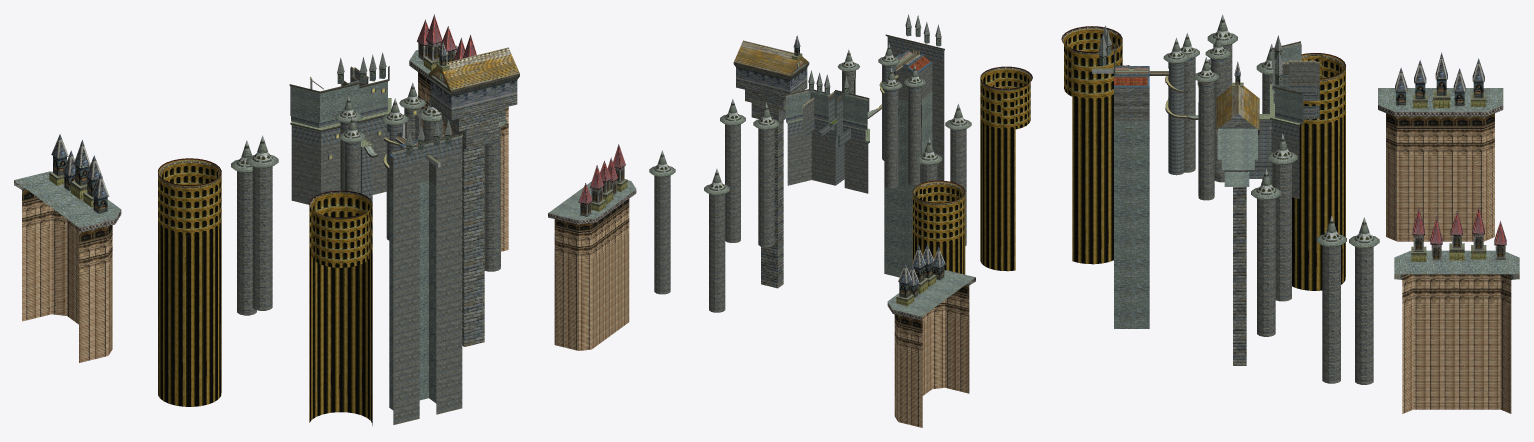
File: Hang Castle 1.obj
The picture shows the model from 3 angles, left to right: view 1: azimuth 30°, elevation 25°; view 2: azimuth 150°, elevation 25°; view 3: azimuth 270°, elevation 25°; orthographic projection. The views are drawn at different scales.
Parts seen in each view (by area): view 1: Object_2, Object_12, Object_11, Object_10, Object_3, Object_5, Object_17, Object_14; view 2: Object_3, Object_2, Object_12, Object_11, Object_10, Object_5, Object_17, Object_14; view 3: Object_3, Object_2, Object_12, Object_11, Object_10, Object_5, Object_17, Object_14.
Boxes of the visible parts, box(x1,y1,x2,y2) form: Object_2: box(14, 58, 361, 406); Object_12: box(309, 136, 462, 425); Object_11: box(321, 41, 519, 346); Object_10: box(235, 96, 364, 315); Object_3: box(365, 14, 508, 251); Object_5: box(348, 52, 441, 135); Object_17: box(390, 119, 462, 167); Object_14: box(343, 98, 417, 154); Object_3: box(548, 114, 835, 350); Object_2: box(835, 74, 975, 427); Object_12: box(876, 48, 1032, 277); Object_11: box(720, 35, 885, 288); Object_10: box(880, 65, 971, 245); Object_5: box(753, 70, 844, 141); Object_17: box(885, 14, 944, 72); Object_14: box(878, 43, 925, 89); Object_3: box(1268, 133, 1519, 413); Object_2: box(1268, 35, 1503, 290); Object_12: box(1061, 26, 1187, 328); Object_11: box(1186, 55, 1271, 365); Object_10: box(1185, 14, 1271, 182); Object_5: box(1267, 51, 1319, 163); Object_17: box(1092, 25, 1149, 86); Object_14: box(1147, 33, 1189, 90).
Size of the model in its own units: 9050 by 6414 by 8412.
